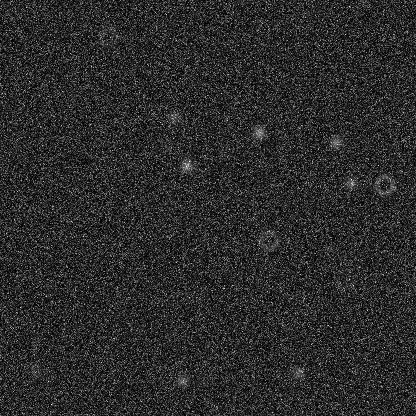Ring: (256, 228, 280, 252), (372, 172, 396, 196), (333, 268, 357, 292), (95, 25, 119, 49)
Spot: (173, 372, 189, 388), (290, 364, 306, 380), (166, 109, 182, 125), (327, 134, 343, 150), (342, 175, 358, 191), (178, 157, 194, 173), (28, 361, 44, 377), (251, 124, 267, 140)
